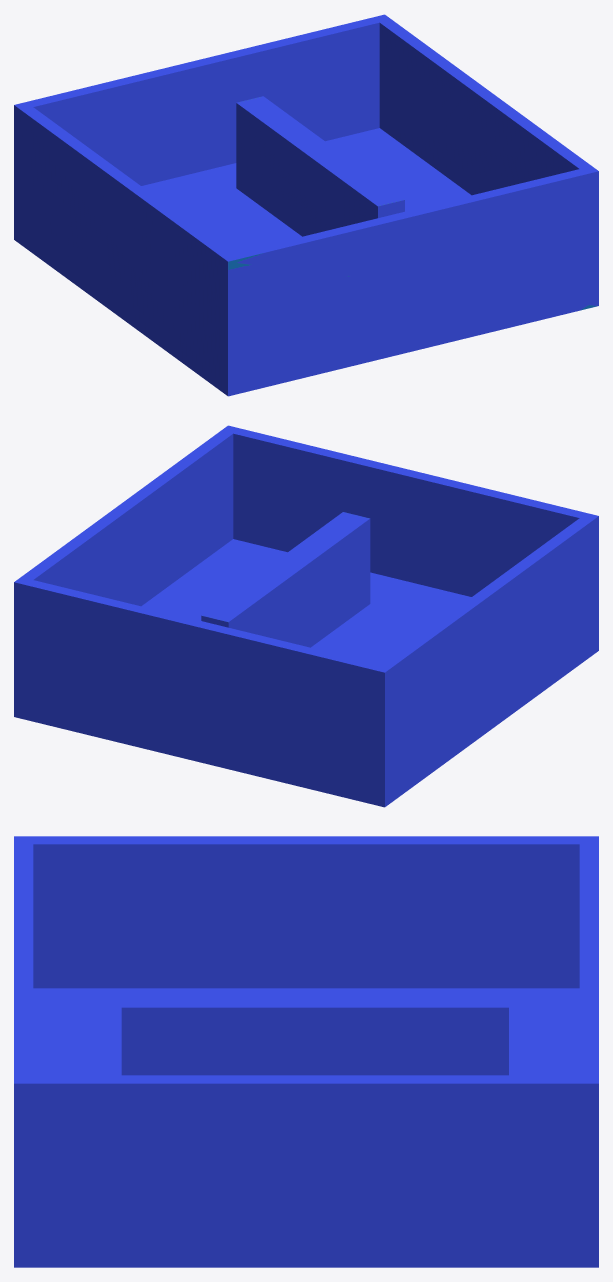
File: example.gltf
3 views of the same model, one above another, from view 1: azimuth 30°, elevation 25°; view 2: azimuth 150°, elevation 25°; view 3: azimuth 270°, elevation 25° (orthographic). The views are drawn at different scales.
Visible parts, largest first — view 1: Hall, Wall; view 2: Hall, Wall; view 3: Hall, Wall.
Part boxes in pixels (box(x1,y1,x2,y2)): Hall: box(14, 14, 598, 396); Wall: box(236, 96, 404, 236); Hall: box(14, 425, 598, 807); Wall: box(201, 512, 370, 647); Hall: box(14, 836, 598, 1267); Wall: box(121, 989, 508, 1075).
Size of the model in its own units: 7.8 by 2.71 by 7.8.
Materials: 2 (2 with a texture image).
